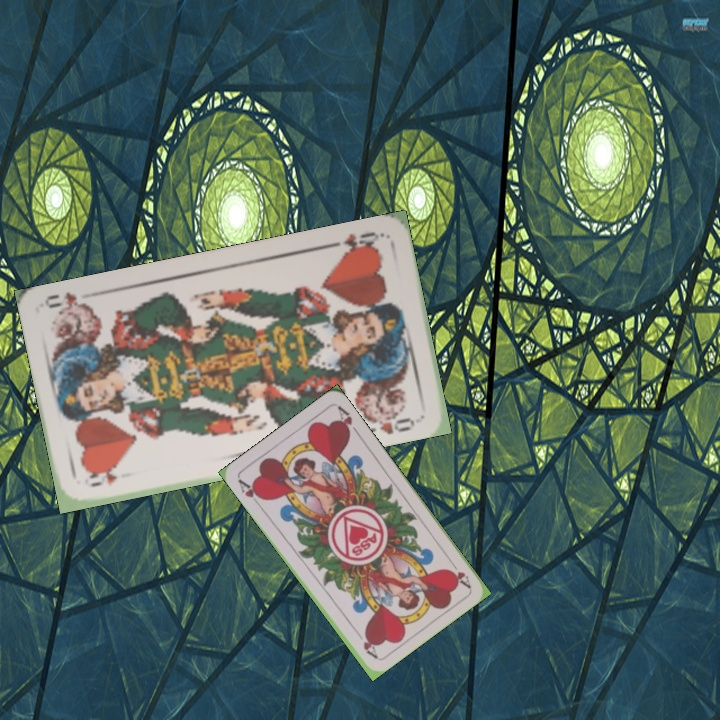HA: (234, 475, 266, 510), (445, 554, 473, 590)
HO: (326, 227, 384, 257), (86, 467, 120, 490)
